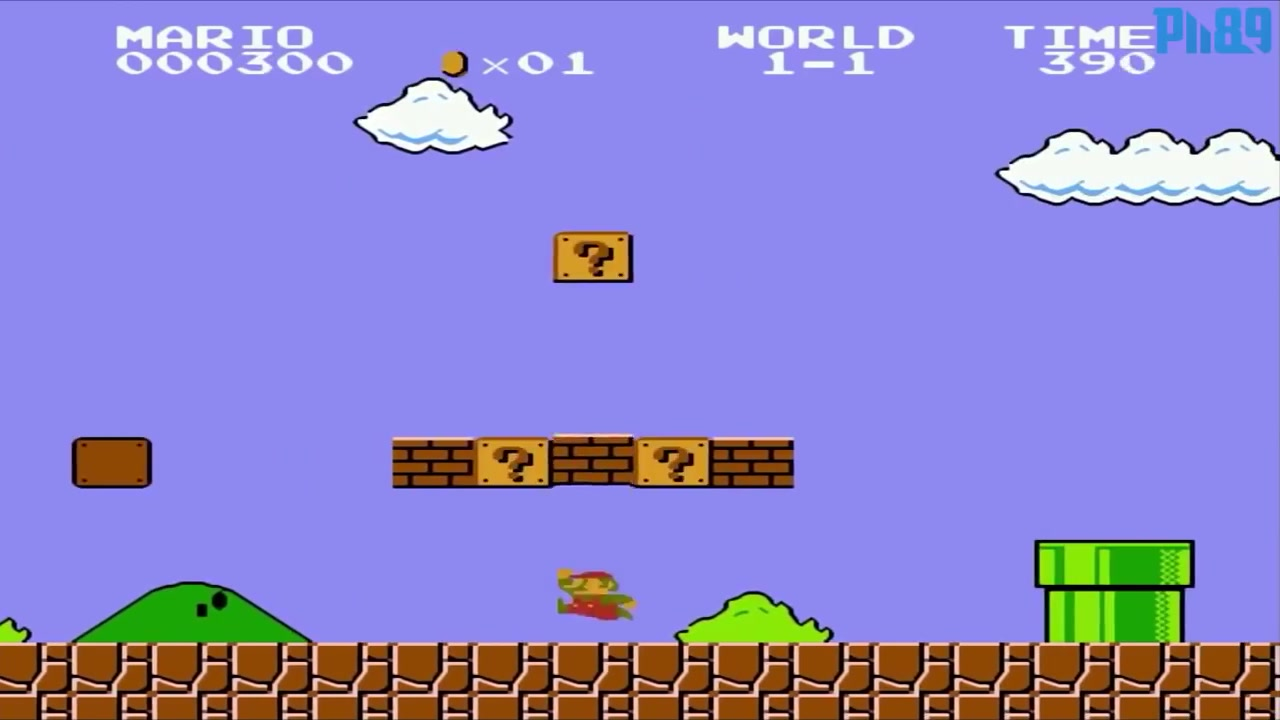mario: (548, 557, 639, 627)
